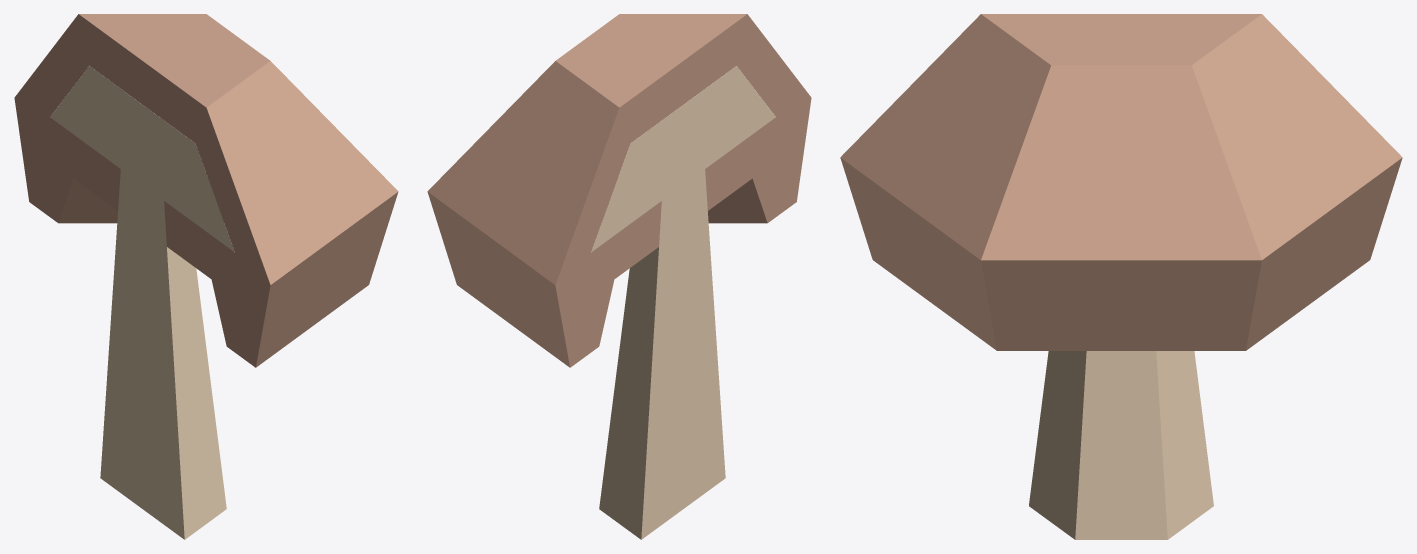
3 renders of one model, left to right at view 1: azimuth 30°, elevation 25°; view 2: azimuth 150°, elevation 25°; view 3: azimuth 270°, elevation 25°, orthographic. The views are drawn at different scales.
Visible parts, largest first — view 1: mushroomHalf; view 2: mushroomHalf; view 3: mushroomHalf.
Boxes of the visible parts, <box> form: mushroomHalf: <box>14,14,398,539</box>; mushroomHalf: <box>427,14,811,539</box>; mushroomHalf: <box>840,14,1402,539</box>.
Bounding box in the file's own units: 0.0624 × 0.1392 × 0.1442.
